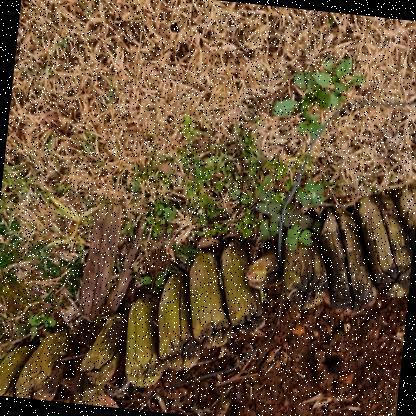Weeds: (271, 71, 343, 123), (331, 55, 369, 95), (295, 178, 328, 209), (253, 188, 282, 217), (296, 110, 324, 139), (284, 224, 314, 251), (284, 208, 312, 231), (256, 219, 280, 242)
